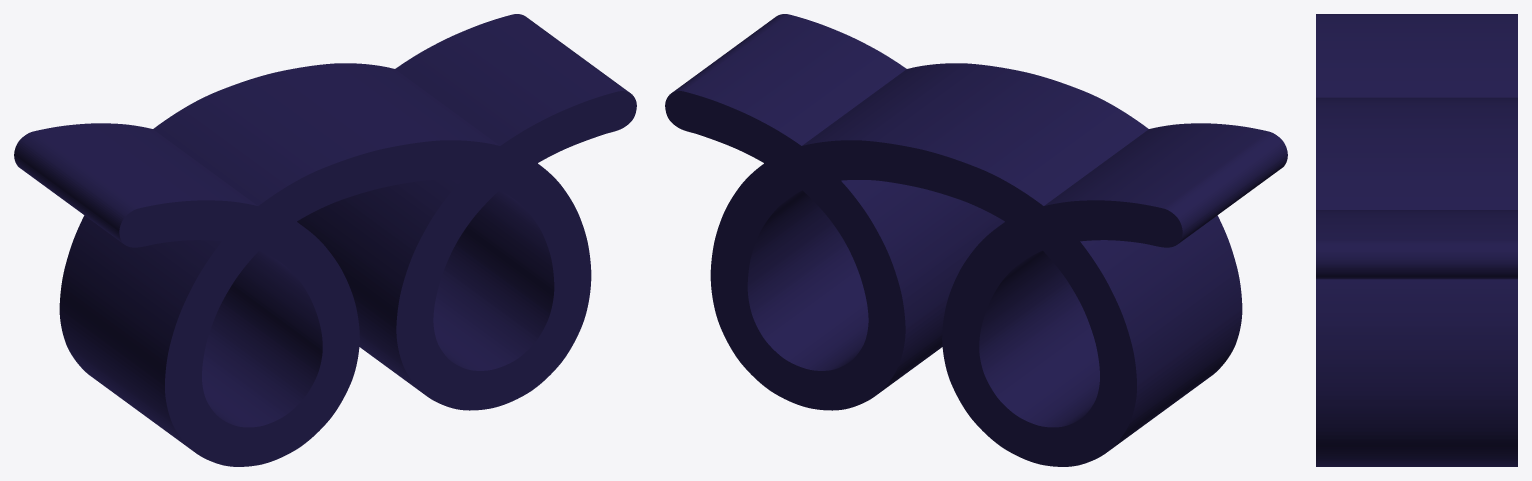
3 views of the same model, side by side, from view 1: azimuth 30°, elevation 25°; view 2: azimuth 150°, elevation 25°; view 3: azimuth 270°, elevation 25° (orthographic). The views are drawn at different scales.
Visible parts, largest first — view 1: U+27BF_layer00_obj00; view 2: U+27BF_layer00_obj00; view 3: U+27BF_layer00_obj00.
Boxes of the visible parts, <box> form: U+27BF_layer00_obj00: <box>14,14,636,466</box>; U+27BF_layer00_obj00: <box>665,14,1287,466</box>; U+27BF_layer00_obj00: <box>1316,14,1517,466</box>.
Bounding box in the file's own units: 0.5678 × 0.2999 × 0.2.
